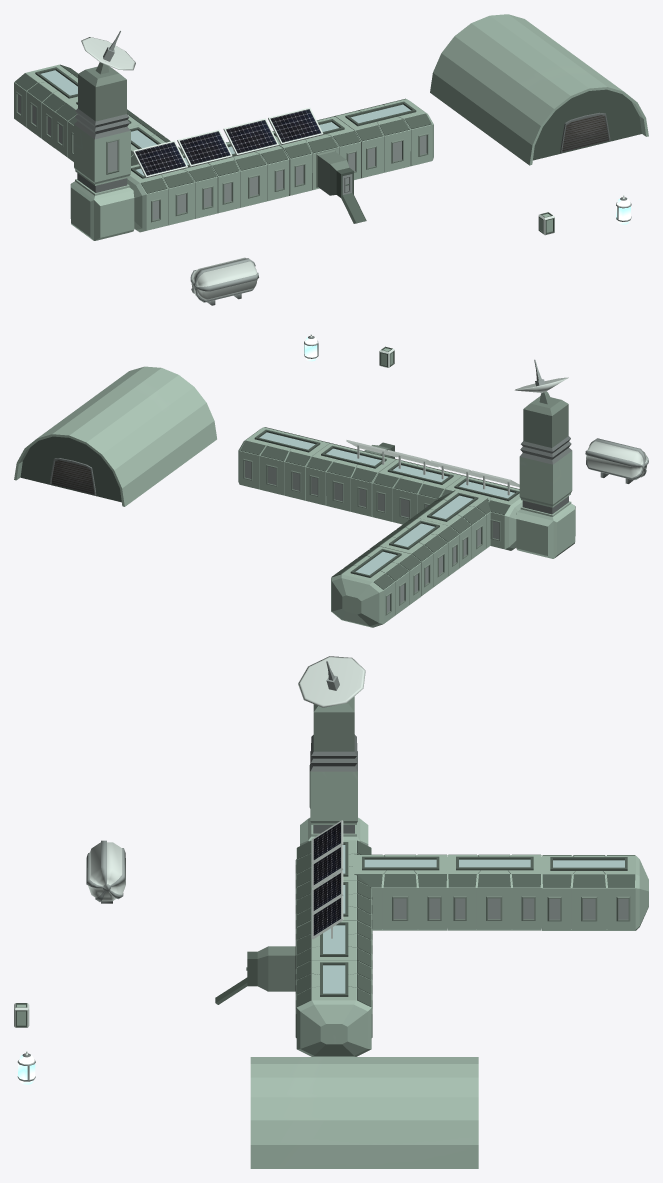
File: SpaceOutpost.fbx
3 renders of one model, top to bottom at view 1: azimuth 30°, elevation 25°; view 2: azimuth 150°, elevation 25°; view 3: azimuth 270°, elevation 25°, orthographic. The views are drawn at different scales.
Visible parts, largest first — view 1: Hangar, tower, room, RoomEntry, Room3, Room2, room6end, Silo, Solar Panel, Solar Panel.001, Solar Panel.002, Solar Panel.003 (+3 smaller); view 2: Hangar, tower, room6end, RoomEntry, room, Room2, room5, room4, Room3, Silo; view 3: Hangar, room6end, room5, room, tower, room4, RoomEntry, parabolaAntena, Silo, Room2, Room3, Solar Panel (+3 smaller).
Boxes of the visible parts, left/top/right/bottom form: Hangar: left=430, top=14, right=648, bottom=165; tower: left=70, top=62, right=134, bottom=240; room: left=334, top=98, right=433, bottom=178; RoomEntry: left=272, top=116, right=366, bottom=223; Room3: left=127, top=153, right=217, bottom=232; Room2: left=208, top=141, right=288, bottom=213; room6end: left=14, top=64, right=77, bottom=148; Silo: left=190, top=257, right=258, bottom=305; Solar Panel: left=268, top=107, right=323, bottom=145; Solar Panel.001: left=223, top=118, right=278, bottom=155; Solar Panel.002: left=177, top=129, right=232, bottom=167; Solar Panel.003: left=132, top=140, right=187, bottom=177; Hangar: left=14, top=366, right=216, bottom=506; tower: left=516, top=391, right=575, bottom=558; room6end: left=331, top=546, right=421, bottom=627; RoomEntry: left=306, top=442, right=396, bottom=516; room: left=238, top=427, right=330, bottom=500; Room2: left=372, top=459, right=463, bottom=524; room5: left=370, top=518, right=459, bottom=595; room4: left=408, top=490, right=491, bottom=567; Room3: left=441, top=475, right=522, bottom=550; Silo: left=585, top=438, right=648, bottom=483; Hangar: left=250, top=1057, right=478, bottom=1168; room6end: left=542, top=855, right=648, bottom=930; room5: left=447, top=854, right=542, bottom=930; room: left=295, top=960, right=372, bottom=1056; tower: left=300, top=696, right=368, bottom=845; room4: left=353, top=854, right=447, bottom=930; RoomEntry: left=215, top=920, right=372, bottom=1004; parabolaAntena: left=298, top=656, right=365, bottom=707; Silo: left=86, top=840, right=125, bottom=903; Room2: left=295, top=880, right=372, bottom=939; Room3: left=295, top=840, right=371, bottom=899; Solar Panel: left=311, top=895, right=343, bottom=939.
Bounding box in the file's own units: 29877 × 10939 × 26987.
